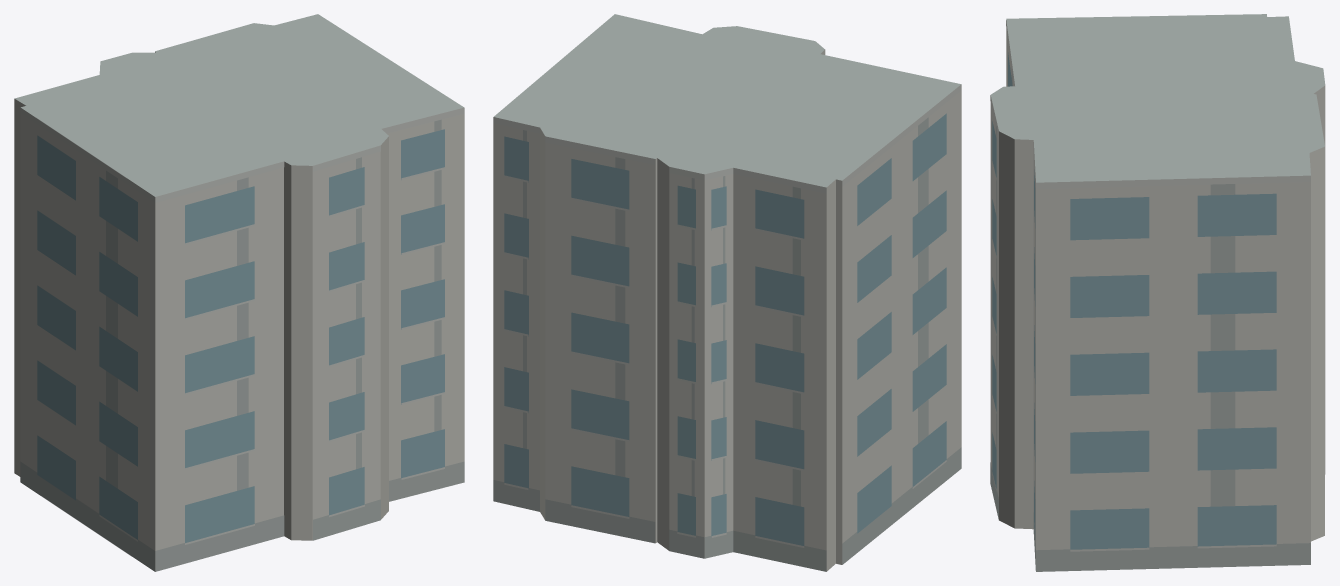
File: survey-upis-33035460.glb
The picture shows the model from 3 angles, left to right: view 1: azimuth 30°, elevation 25°; view 2: azimuth 150°, elevation 25°; view 3: azimuth 270°, elevation 25°; orthographic projection. The views are drawn at different scales.
Parts seen in each view (by area): view 1: survey-upis-33035460.tmp; view 2: survey-upis-33035460.tmp; view 3: survey-upis-33035460.tmp.
Part boxes in pixels (<box>): survey-upis-33035460.tmp: <box>14,14,464,571</box>; survey-upis-33035460.tmp: <box>493,14,961,571</box>; survey-upis-33035460.tmp: <box>990,14,1325,571</box>.
Bounding box in the file's own units: 13.86 × 14.9 × 11.63.
